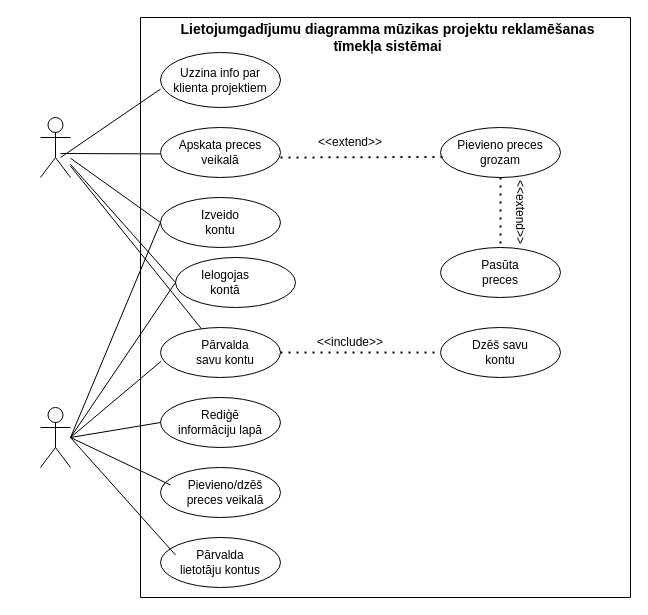
Image size: 648x615. Some labels were removed from this diagram. Each missing label, with the box of its shape:
Administrators: (40, 406, 70, 468)
Lietotājs: (40, 116, 70, 178)
